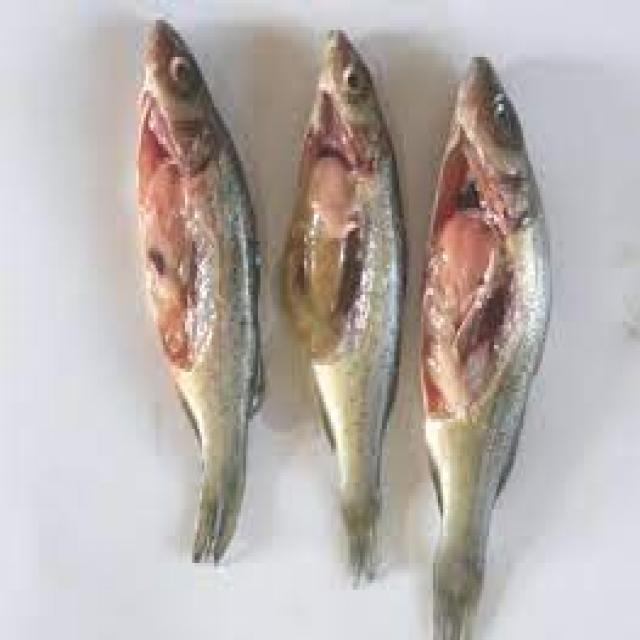EUS Disease: (120, 17, 545, 640), (280, 81, 410, 440), (417, 132, 532, 511), (116, 85, 240, 399)
